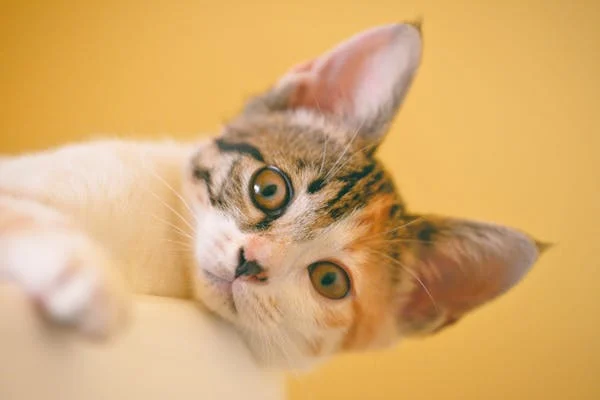Cat: (1, 21, 543, 365)
